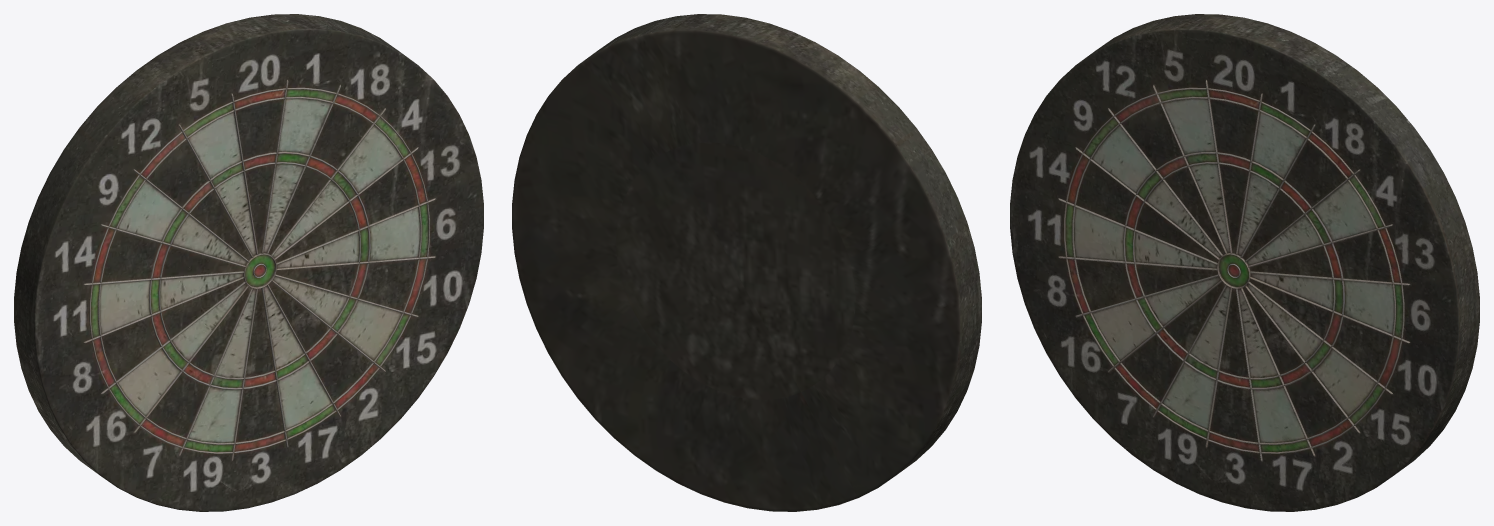
File: dartboard.glb
3 views of the same model, side by side, from view 1: azimuth 30°, elevation 25°; view 2: azimuth 150°, elevation 25°; view 3: azimuth 330°, elevation 25° (orthographic).
Visible parts, largest first — view 1: dartboard; view 2: dartboard; view 3: dartboard.
Boxes of the visible parts, x1=… form: dartboard: x1=14, y1=14, x2=483, y2=511; dartboard: x1=512, y1=14, x2=981, y2=511; dartboard: x1=1010, y1=14, x2=1479, y2=511.
Size of the model in its own units: 0.4507 by 0.4507 by 0.0398.
1 material, 1 textured.
